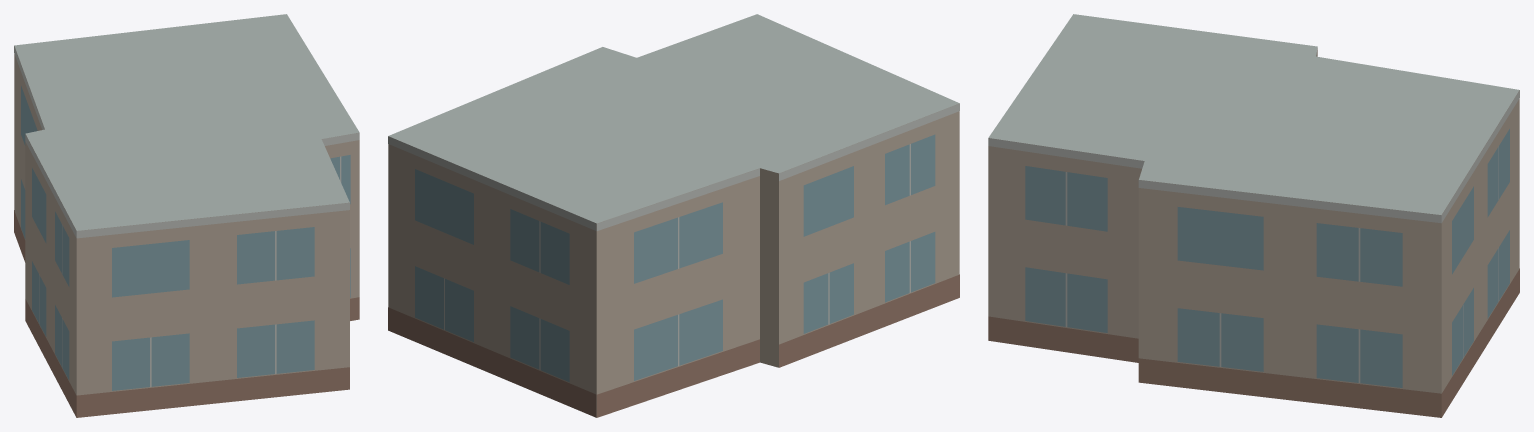
Rendered from survey-upis-32665941.glb.
3 renders of one model, left to right at view 1: azimuth 30°, elevation 25°; view 2: azimuth 150°, elevation 25°; view 3: azimuth 270°, elevation 25°, orthographic. The views are drawn at different scales.
Visible parts, largest first — view 1: survey-upis-32665941.tmp; view 2: survey-upis-32665941.tmp; view 3: survey-upis-32665941.tmp.
Part boxes in pixels (x1,y1,x2,y2): survey-upis-32665941.tmp: (14, 14, 359, 417); survey-upis-32665941.tmp: (388, 14, 959, 417); survey-upis-32665941.tmp: (988, 14, 1519, 417).
Bounding box in the file's own units: 12.99 × 6.1 × 14.5.
